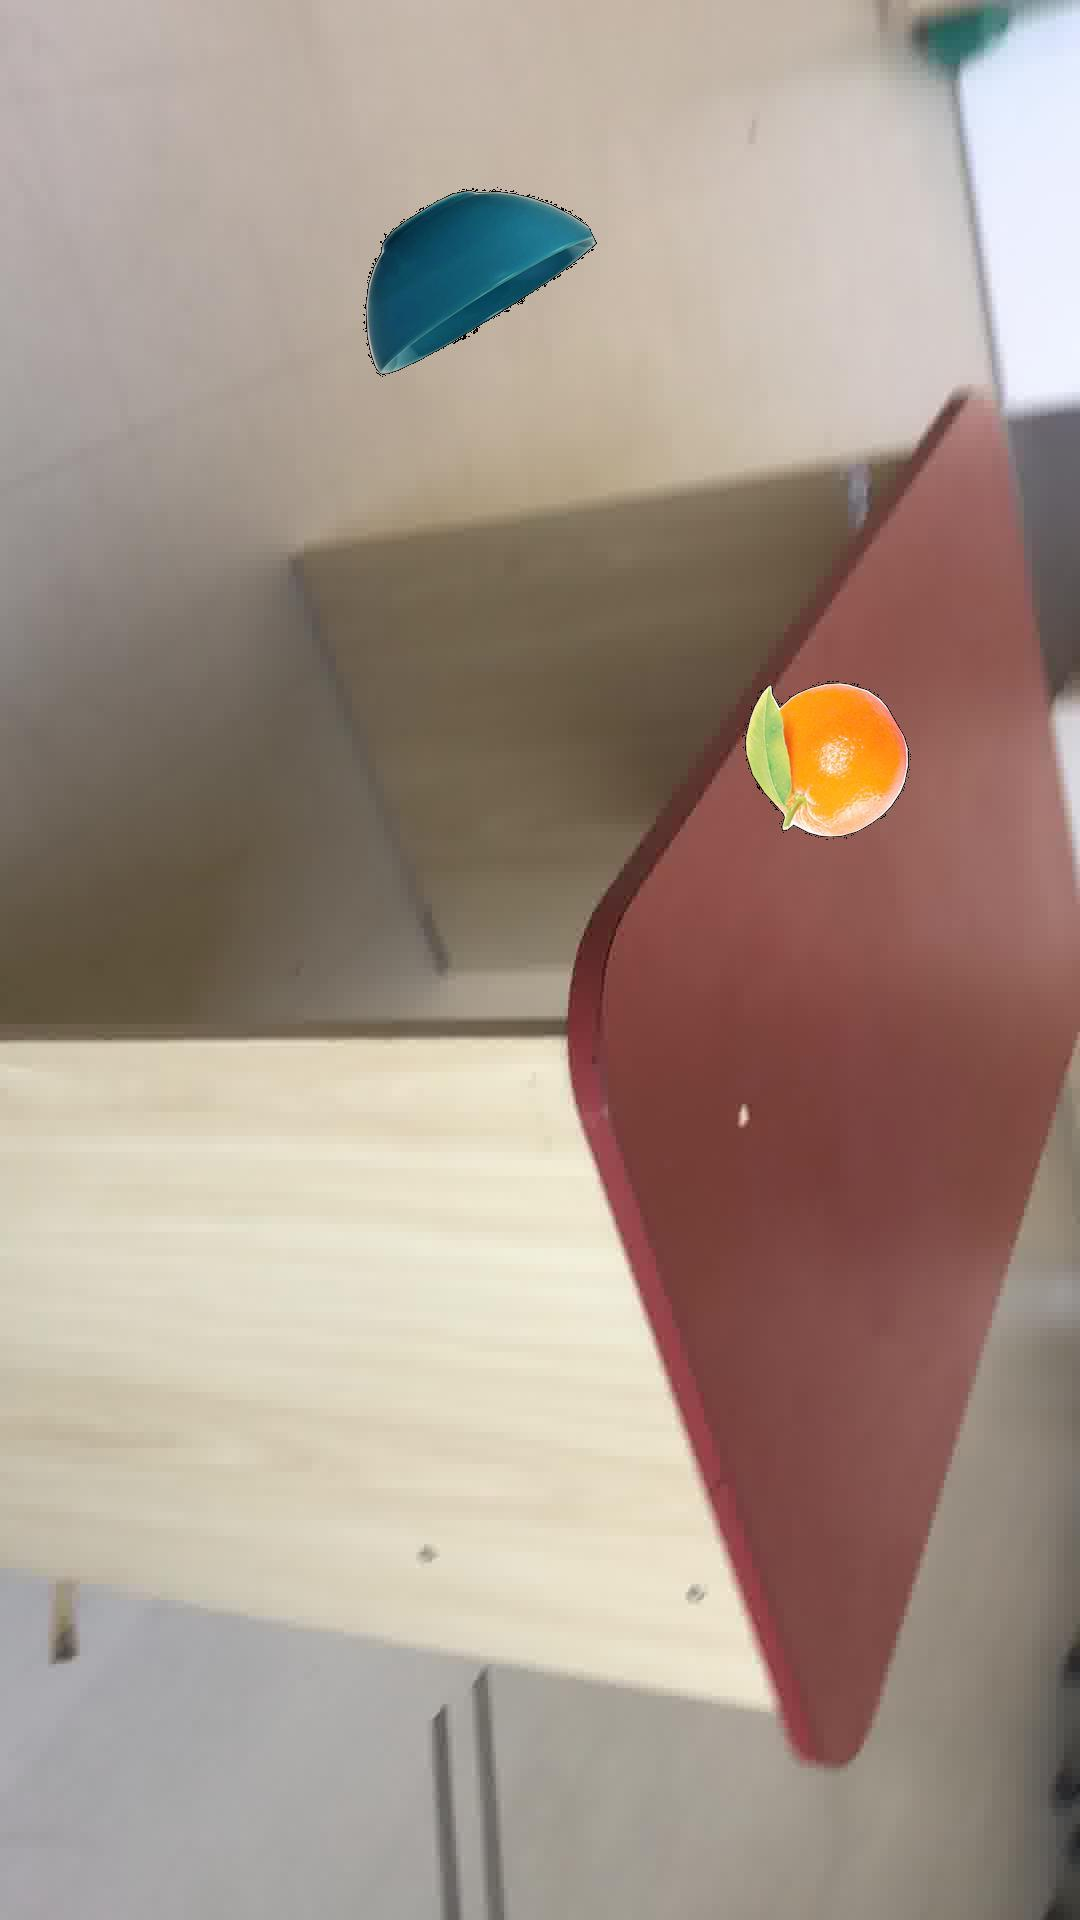bowl: (363, 187, 596, 373)
orange: (744, 682, 907, 836)
